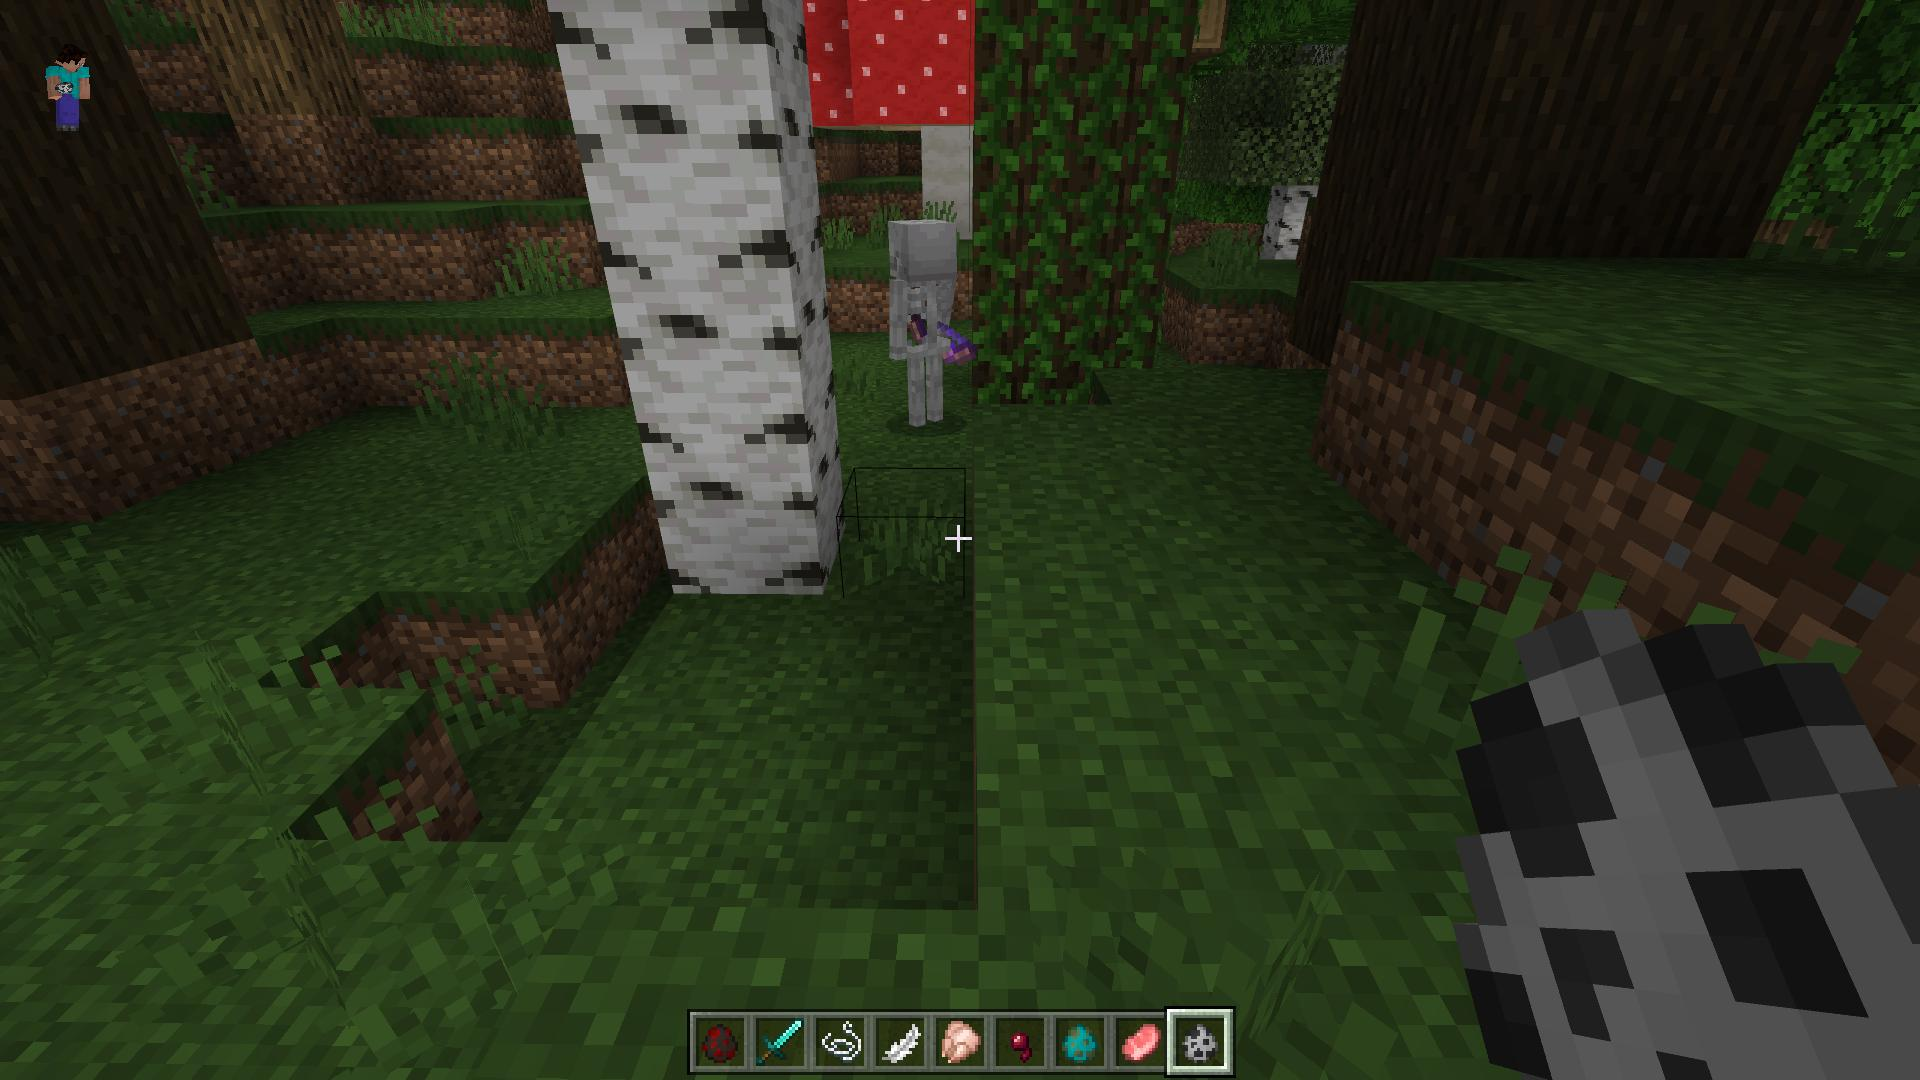skeleton: (884, 214, 978, 427)
